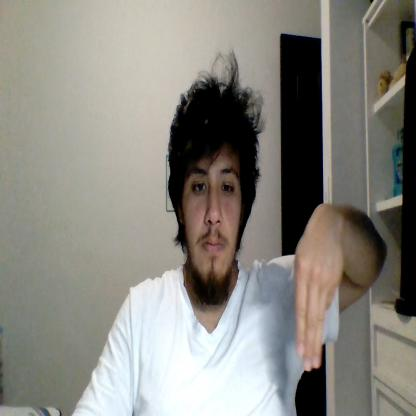M: (295, 222, 343, 370)
